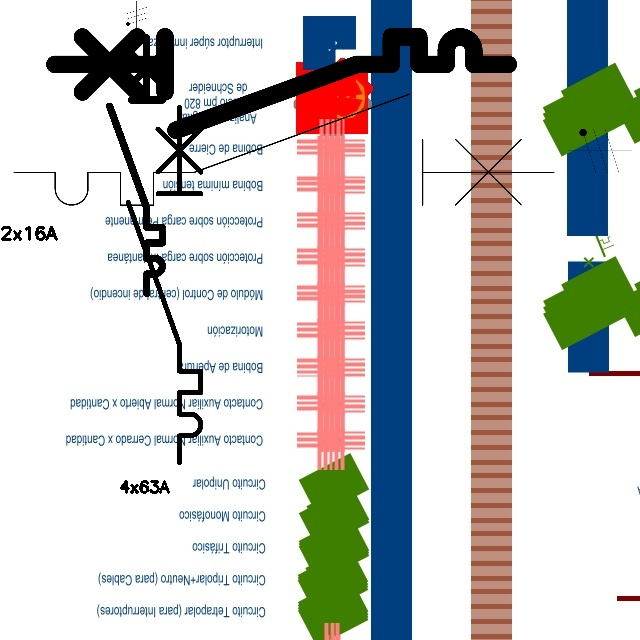interruptor_termomagnetico: (0, 80, 568, 219), (43, 25, 520, 141), (119, 98, 210, 471), (103, 31, 169, 300)
